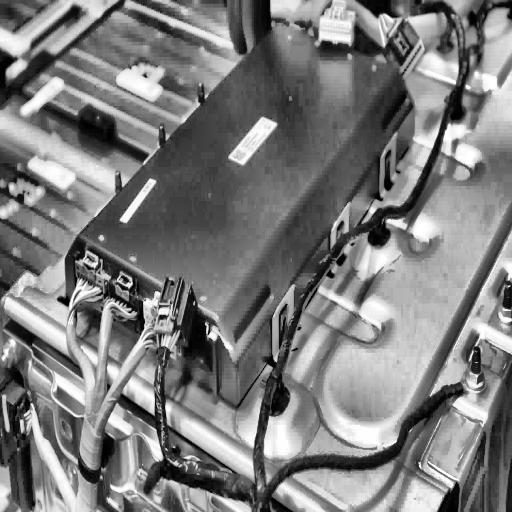bms_unit: (64, 19, 416, 408)
low_volt_cable: (154, 0, 508, 512)
